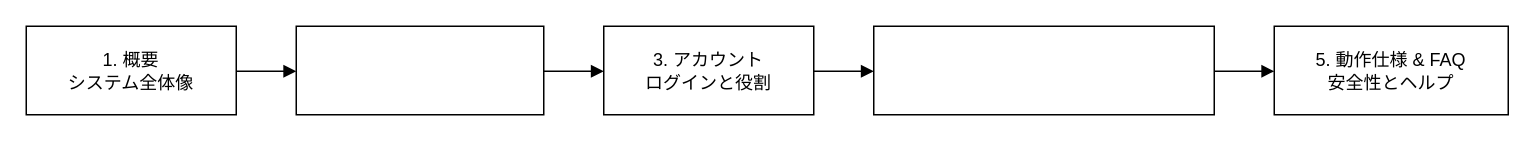
The diagram is 1535 pixels wide and 141 high, and some of its shapes have lost their labels. Each missing label, with the centre of its shape:
"2. クイックスタート 最初のミッション" goes at (419,70).
"4. ナビゲーション & マッピング 基本操作" goes at (1043,70).
